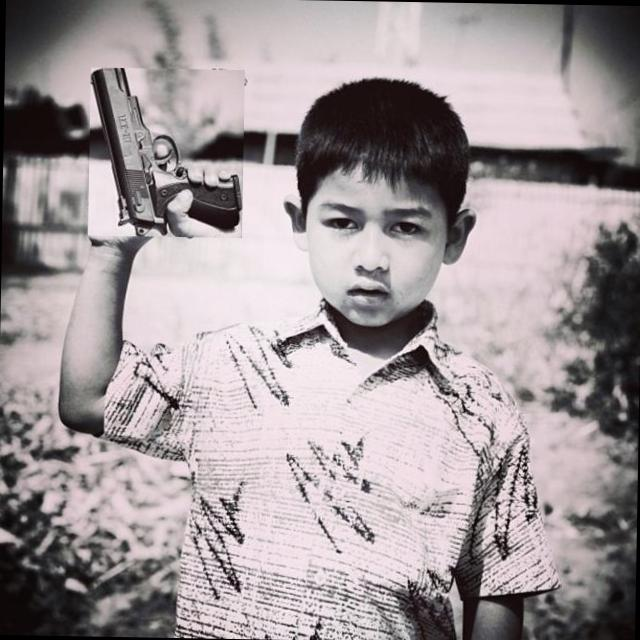Gun: (90, 67, 242, 236)
